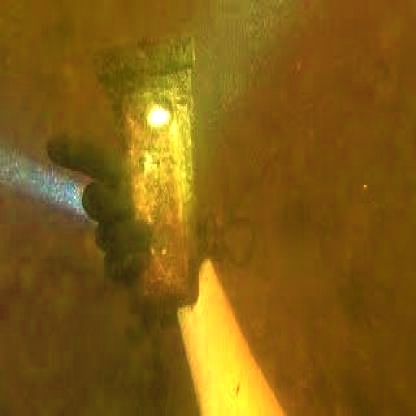cellphone: (121, 88, 191, 300)
